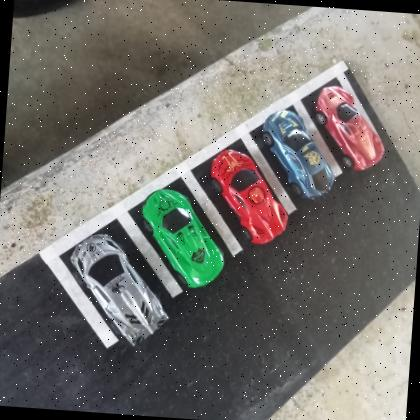Car: (64, 232, 176, 349), (136, 186, 230, 291), (207, 148, 293, 246), (259, 108, 340, 202), (311, 84, 388, 174)
